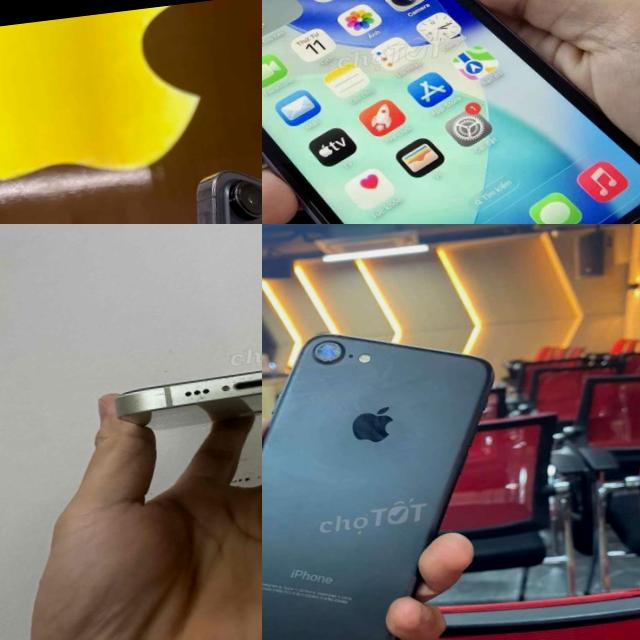gen_11: (262, 0, 640, 224)
gen_12_13: (102, 342, 262, 439)
gen_7_8: (262, 306, 516, 640)
scratch: (304, 329, 352, 370)
